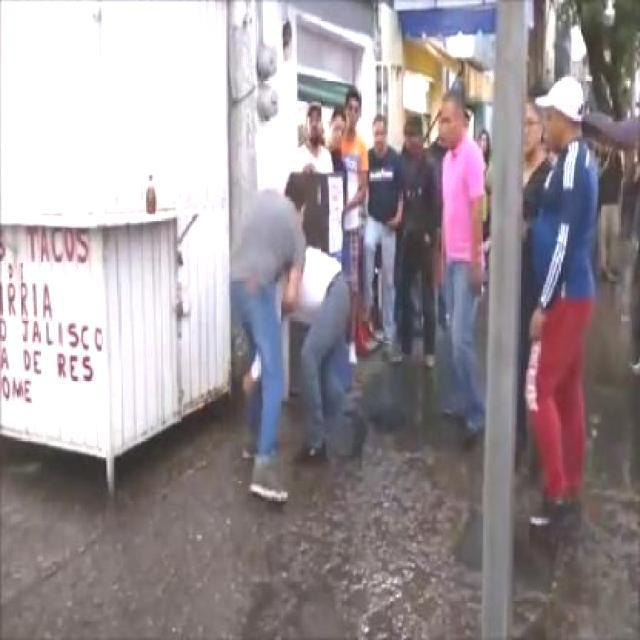fight: (224, 172, 354, 492)
